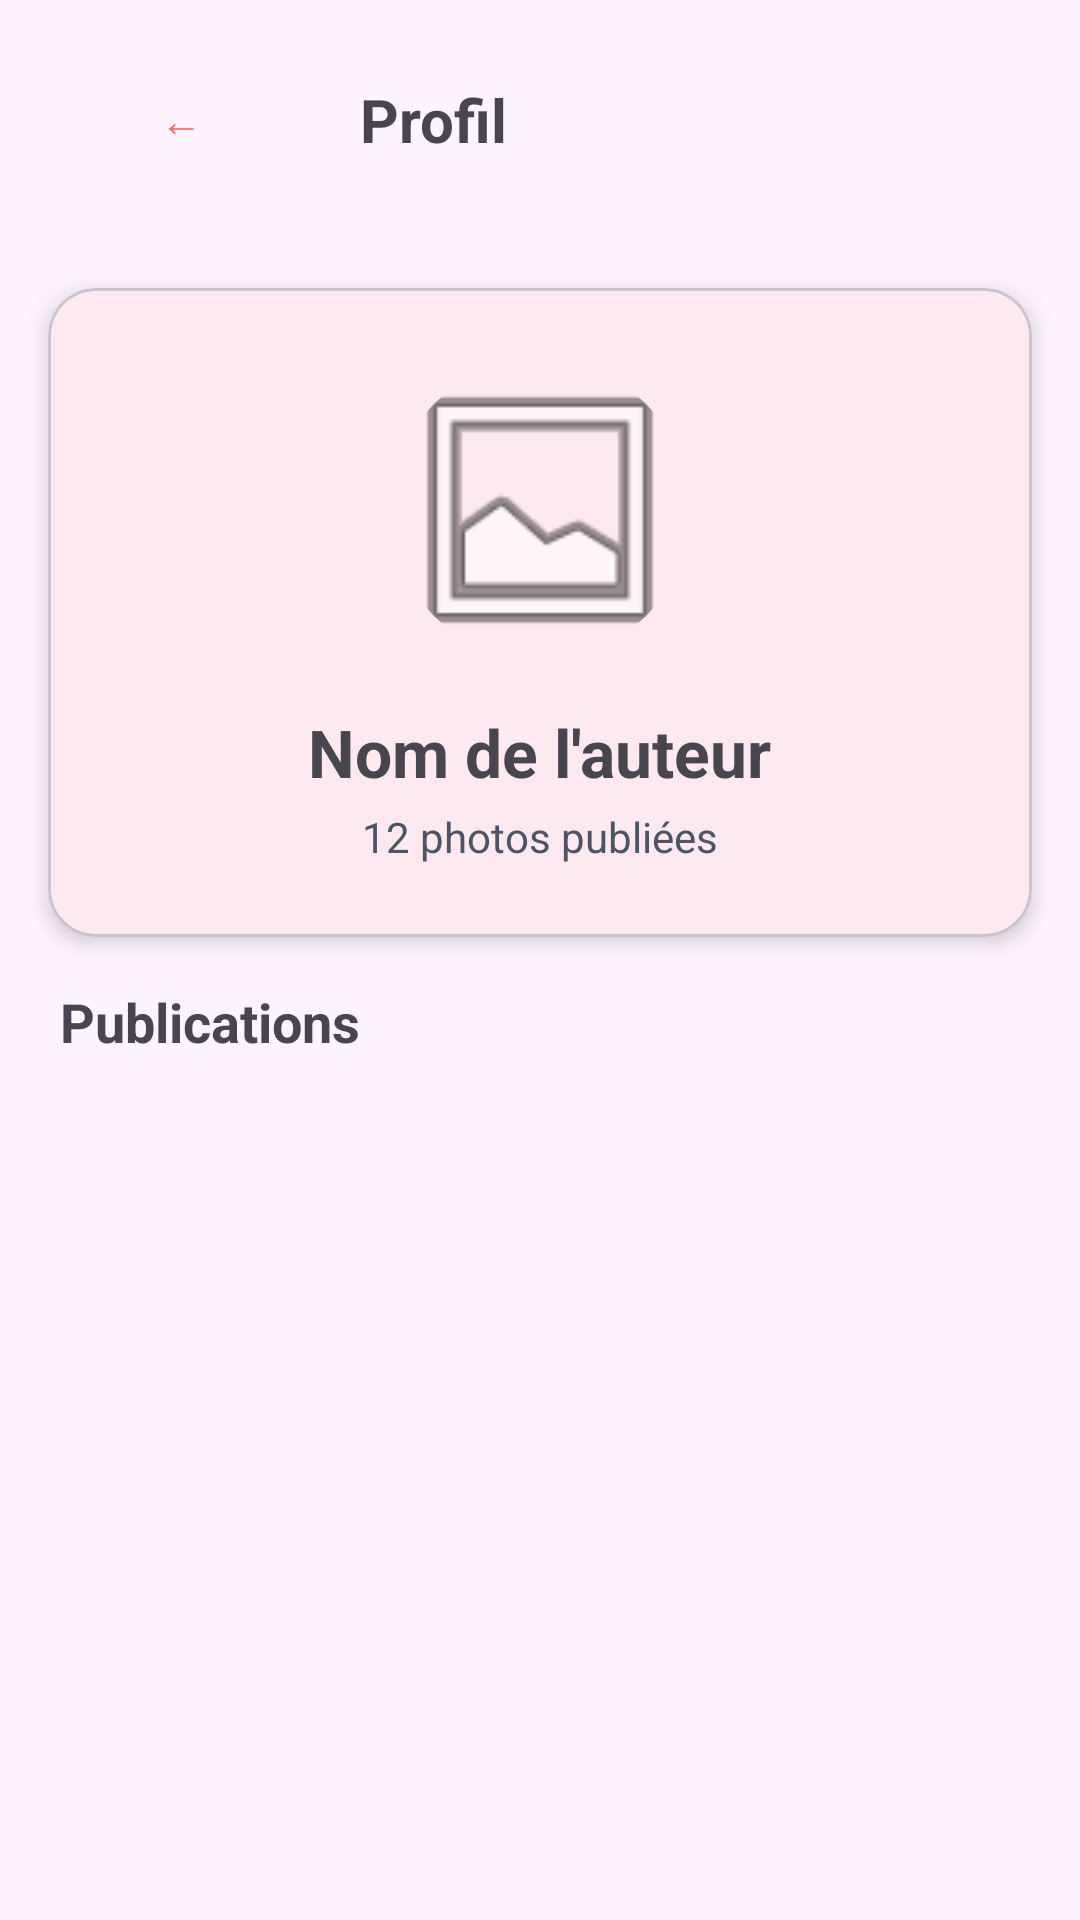

Screen size 1080px x 1920px. Icon name, then its center in pixels as point (x, y):
gallery: point (540, 510)
